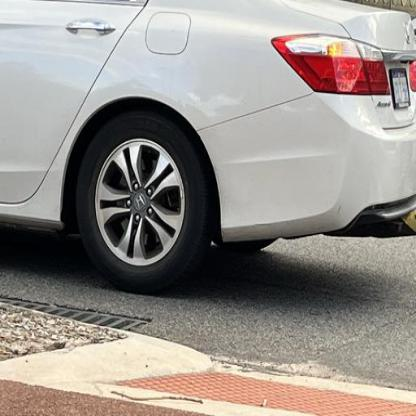Tire: (76, 112, 217, 294)
